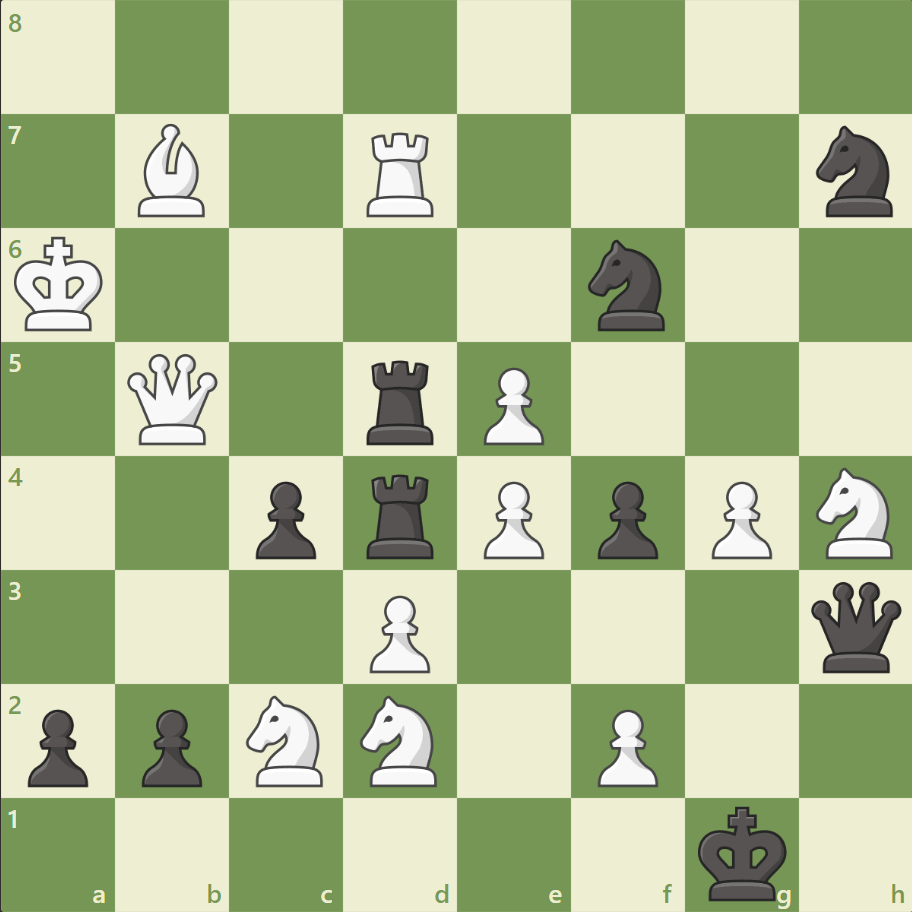B: (131, 120, 215, 222)
K: (11, 231, 111, 339)
N: (351, 688, 449, 791), (806, 461, 903, 564), (238, 688, 335, 791)
P: (474, 359, 549, 450), (474, 473, 549, 564), (701, 473, 776, 564), (361, 586, 435, 677), (588, 700, 662, 791)
Q: (124, 349, 223, 449)
R: (360, 125, 442, 222)
k: (692, 798, 792, 906)
n: (579, 234, 676, 337), (806, 121, 903, 223)
p: (247, 473, 322, 564), (20, 700, 95, 791), (133, 700, 208, 791), (588, 473, 662, 564)
q: (805, 576, 904, 676)
r: (360, 352, 442, 449), (360, 466, 442, 563)
